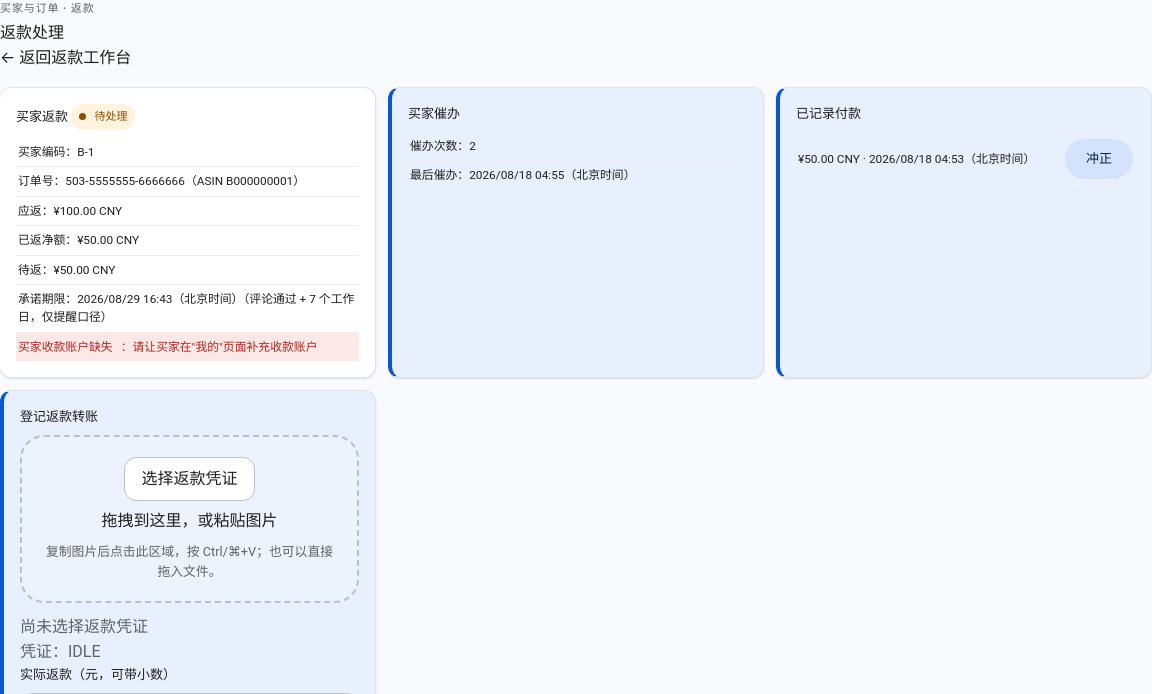
Scenario: staff refund detail › shows the request id and a server-fact refresh after a rejected refund mutation
Click the button "冲正" at x=1099, y=159, box [1065,139,1133,179]
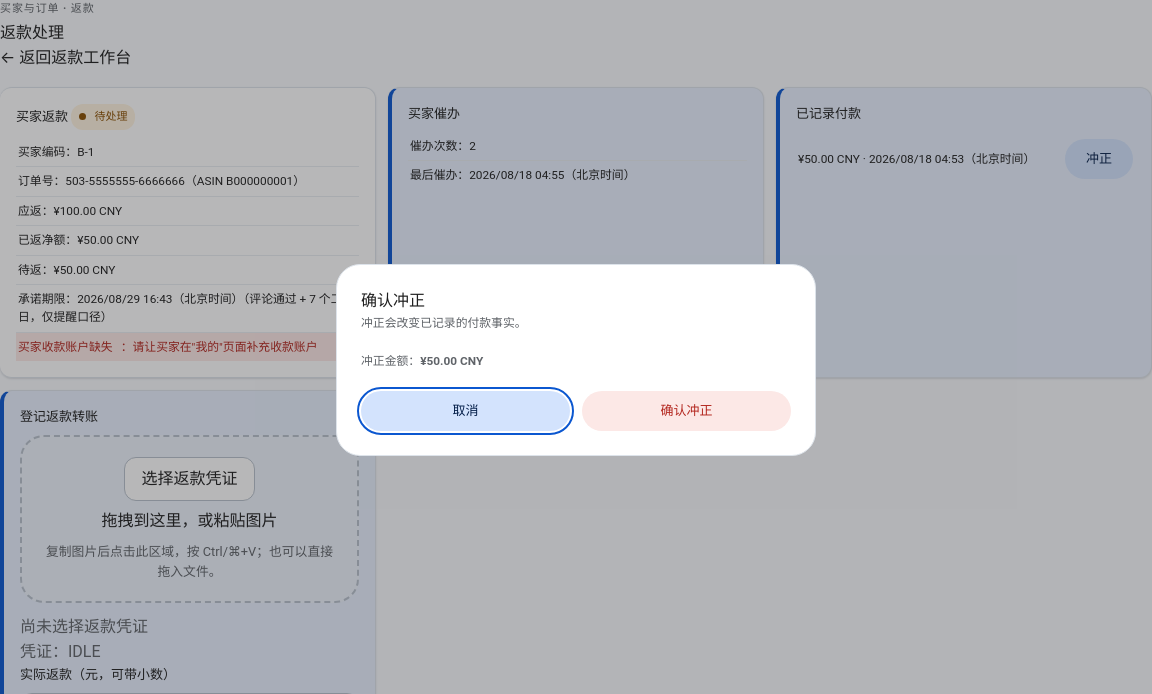
Click the button "确认冲正" at x=686, y=411, box [582,391,791,431]
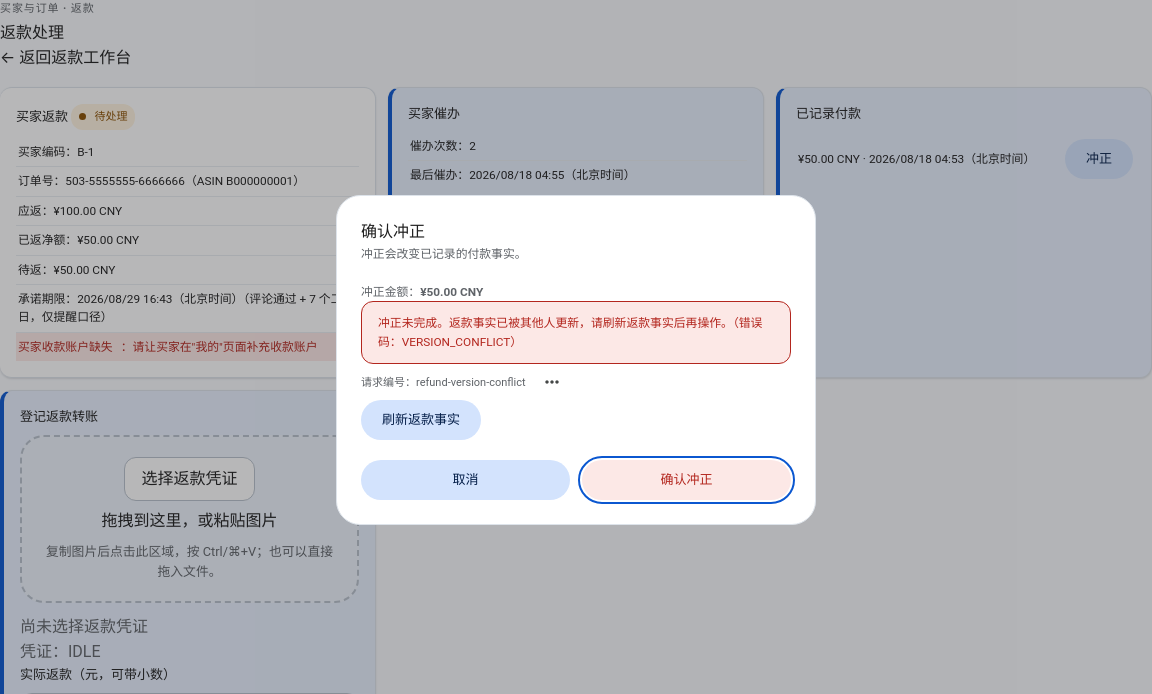
Check: the text "请求编号：refund-version-conflict" is shown, box [361,374,526,390]
Check: the button "刷新返款事实" is shown, box [361,400,481,440]
